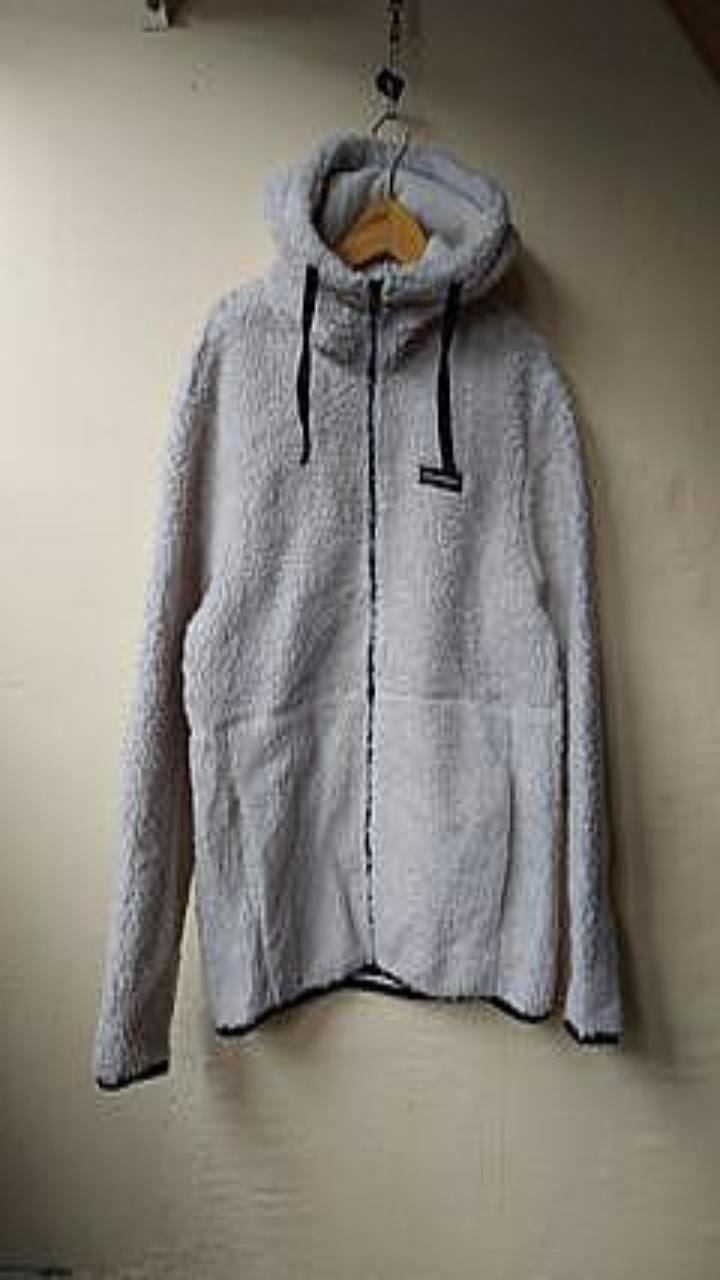Sports_Jacket: (94, 131, 621, 1088)
